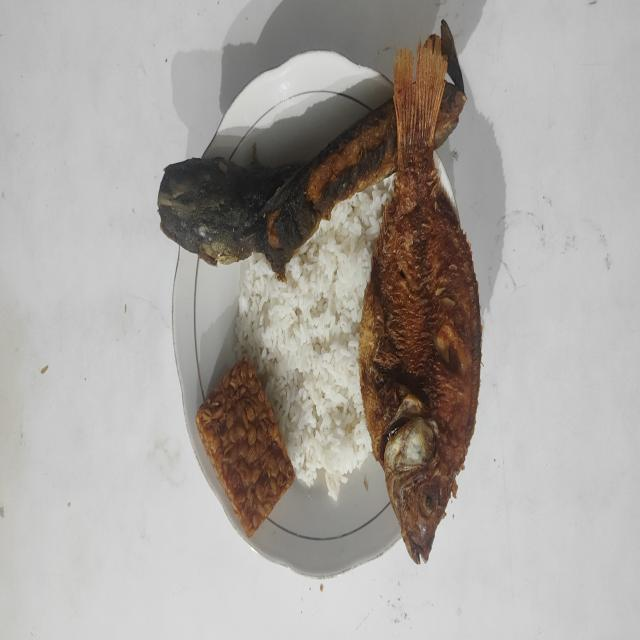ikan_mujair: (359, 34, 482, 564)
nasi_putih: (236, 175, 394, 500)
tempe_goreng: (196, 358, 295, 536)
